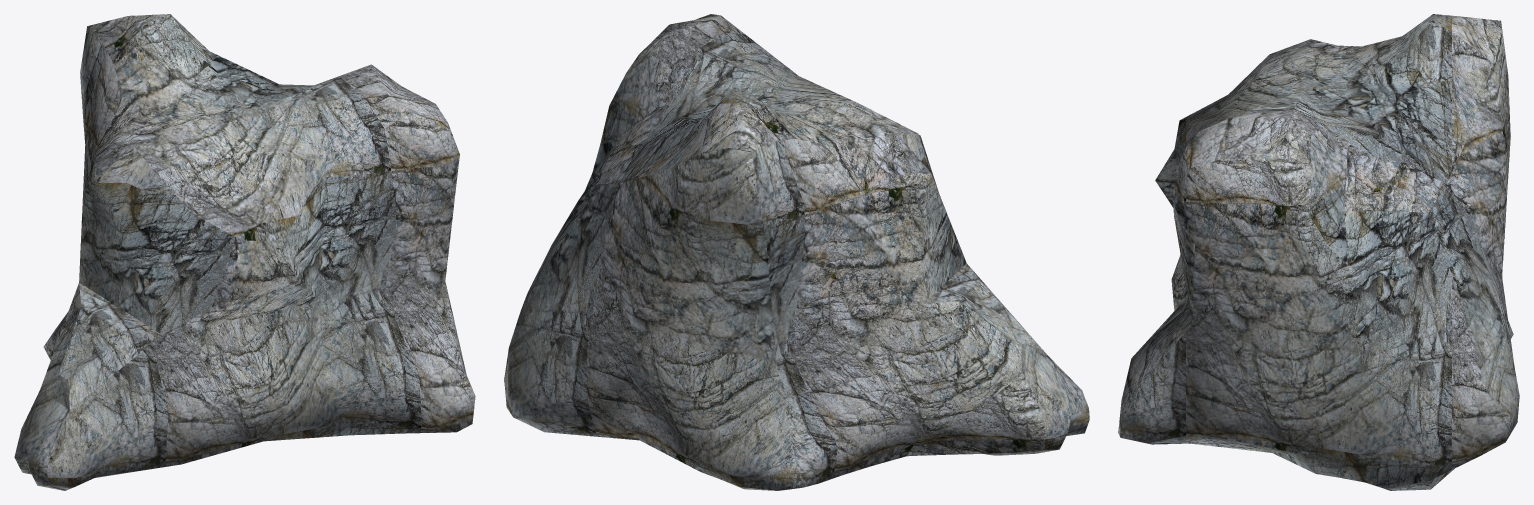
File: LargeRock01.DAE
3 renders of one model, left to right at view 1: azimuth 30°, elevation 25°; view 2: azimuth 150°, elevation 25°; view 3: azimuth 270°, elevation 25°, orthographic. The views are drawn at different scales.
Visible parts, largest first — view 1: LargeRockOne200; view 2: LargeRockOne200; view 3: LargeRockOne200.
Boxes of the visible parts, bbox=[...] form: LargeRockOne200: bbox=[14, 14, 475, 490]; LargeRockOne200: bbox=[504, 14, 1089, 490]; LargeRockOne200: bbox=[1118, 14, 1519, 490].
Size of what is drawn, in the model's own units: 26.52 by 19.81 by 20.74.
